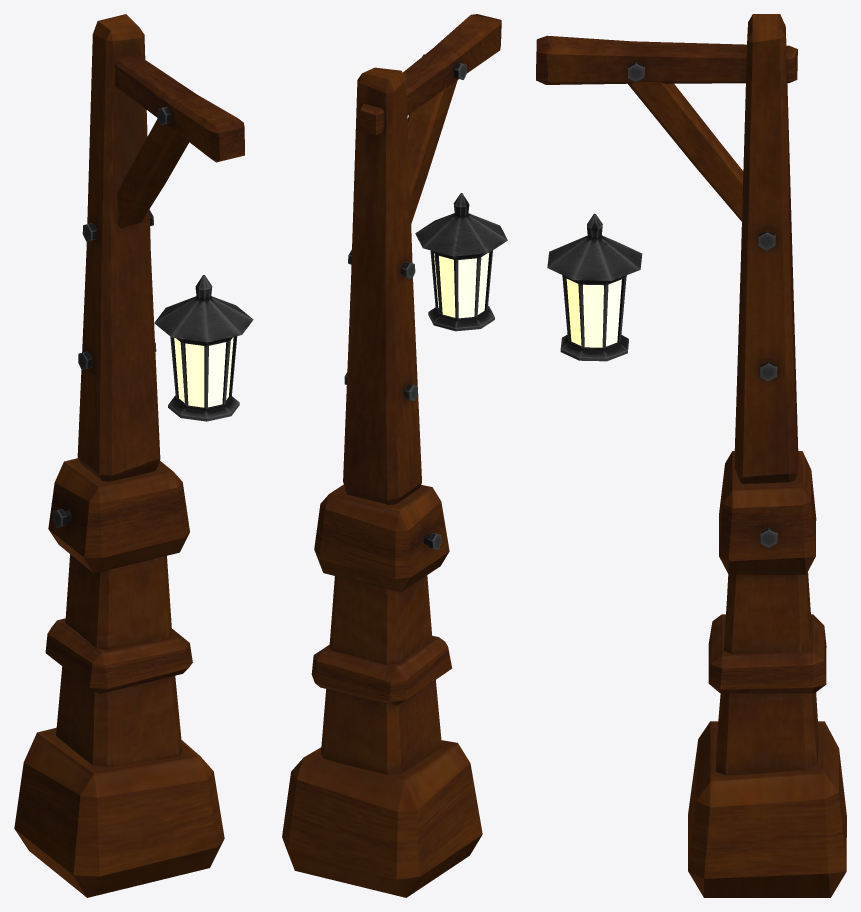
The model's file is PA_Ground_LightPolesset_Ground_Light1_CROP.fbx.
3 renders of one model, left to right at view 1: azimuth 30°, elevation 25°; view 2: azimuth 150°, elevation 25°; view 3: azimuth 270°, elevation 25°, orthographic. The views are drawn at different scales.
Parts seen in each view (by area): view 1: PA_Ground_LightPolesset_Ground_Light1.003, PA_Ground_LightPolesset_Ground_Light1.004, PA_Ground_LightPolesset_Ground_Light1.002, PA_Ground_LightPolesset_Ground_Light1.001; view 2: PA_Ground_LightPolesset_Ground_Light1.003, PA_Ground_LightPolesset_Ground_Light1.004, PA_Ground_LightPolesset_Ground_Light1.002, PA_Ground_LightPolesset_Ground_Light1.001; view 3: PA_Ground_LightPolesset_Ground_Light1.003, PA_Ground_LightPolesset_Ground_Light1.004, PA_Ground_LightPolesset_Ground_Light1.002, PA_Ground_LightPolesset_Ground_Light1.001.
Boxes of the visible parts, x1=… form: PA_Ground_LightPolesset_Ground_Light1.003: x1=77, y1=14, x2=244, y2=481; PA_Ground_LightPolesset_Ground_Light1.004: x1=45, y1=458, x2=192, y2=767; PA_Ground_LightPolesset_Ground_Light1.002: x1=14, y1=727, x2=224, y2=897; PA_Ground_LightPolesset_Ground_Light1.001: x1=154, y1=275, x2=253, y2=421; PA_Ground_LightPolesset_Ground_Light1.003: x1=343, y1=14, x2=501, y2=504; PA_Ground_LightPolesset_Ground_Light1.004: x1=311, y1=484, x2=452, y2=774; PA_Ground_LightPolesset_Ground_Light1.002: x1=282, y1=740, x2=482, y2=897; PA_Ground_LightPolesset_Ground_Light1.001: x1=415, y1=193, x2=507, y2=331; PA_Ground_LightPolesset_Ground_Light1.003: x1=536, y1=14, x2=798, y2=483; PA_Ground_LightPolesset_Ground_Light1.004: x1=708, y1=451, x2=826, y2=775; PA_Ground_LightPolesset_Ground_Light1.002: x1=688, y1=721, x2=846, y2=897; PA_Ground_LightPolesset_Ground_Light1.001: x1=547, y1=213, x2=642, y2=361.
Size of the model in its own units: 74.32 by 393 by 131.
